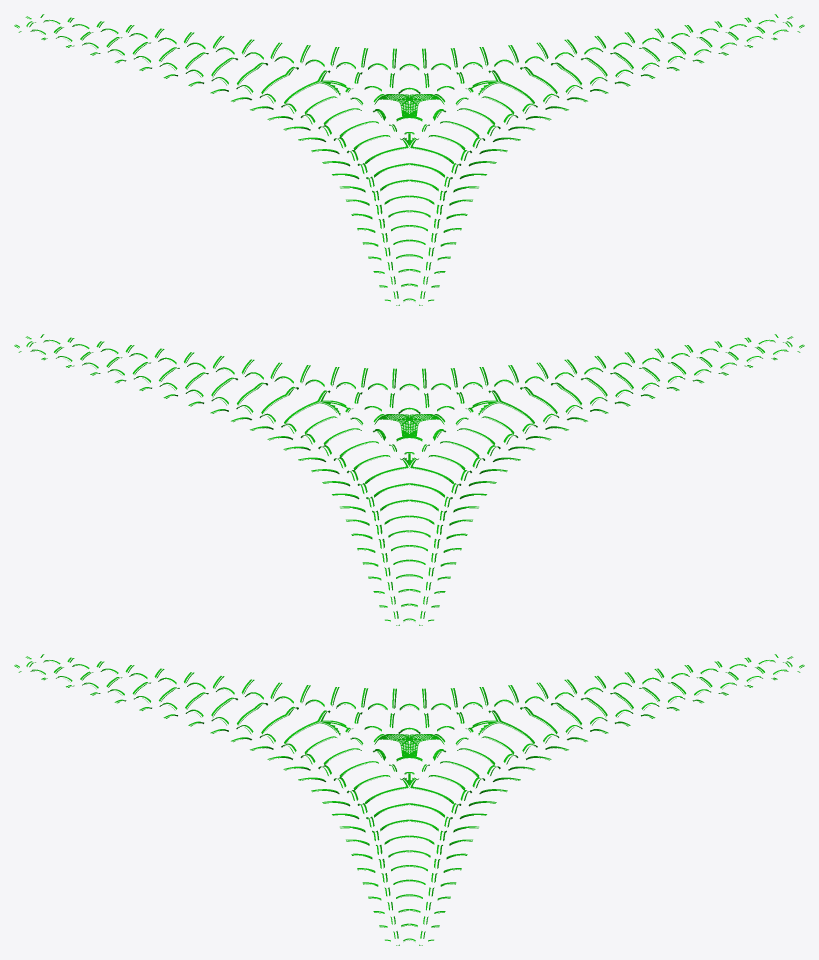
File: kia_2.glb
3 views of the same model, one above another, from view 1: azimuth 30°, elevation 25°; view 2: azimuth 150°, elevation 25°; view 3: azimuth 270°, elevation 25° (orthographic).
Bounding box in the file's own units: 972554 × 29138 × 1116349.
